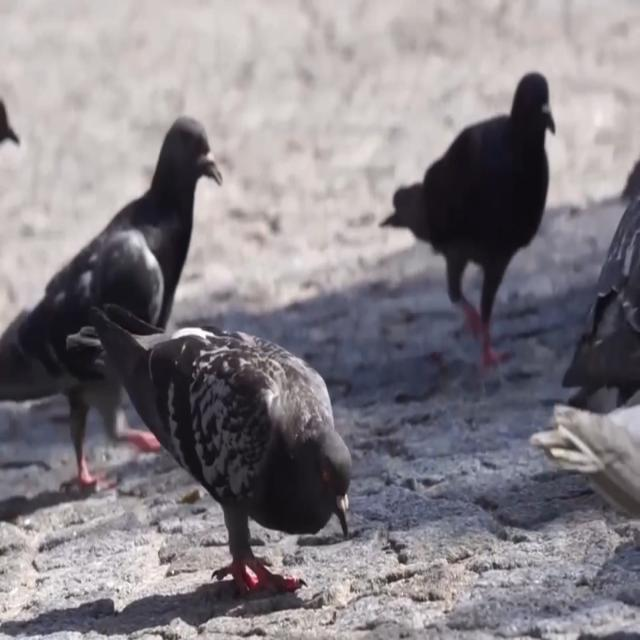bird: (78, 313, 385, 608), (7, 120, 222, 502), (375, 49, 559, 389), (569, 150, 640, 441), (527, 392, 640, 538), (0, 51, 43, 255)
